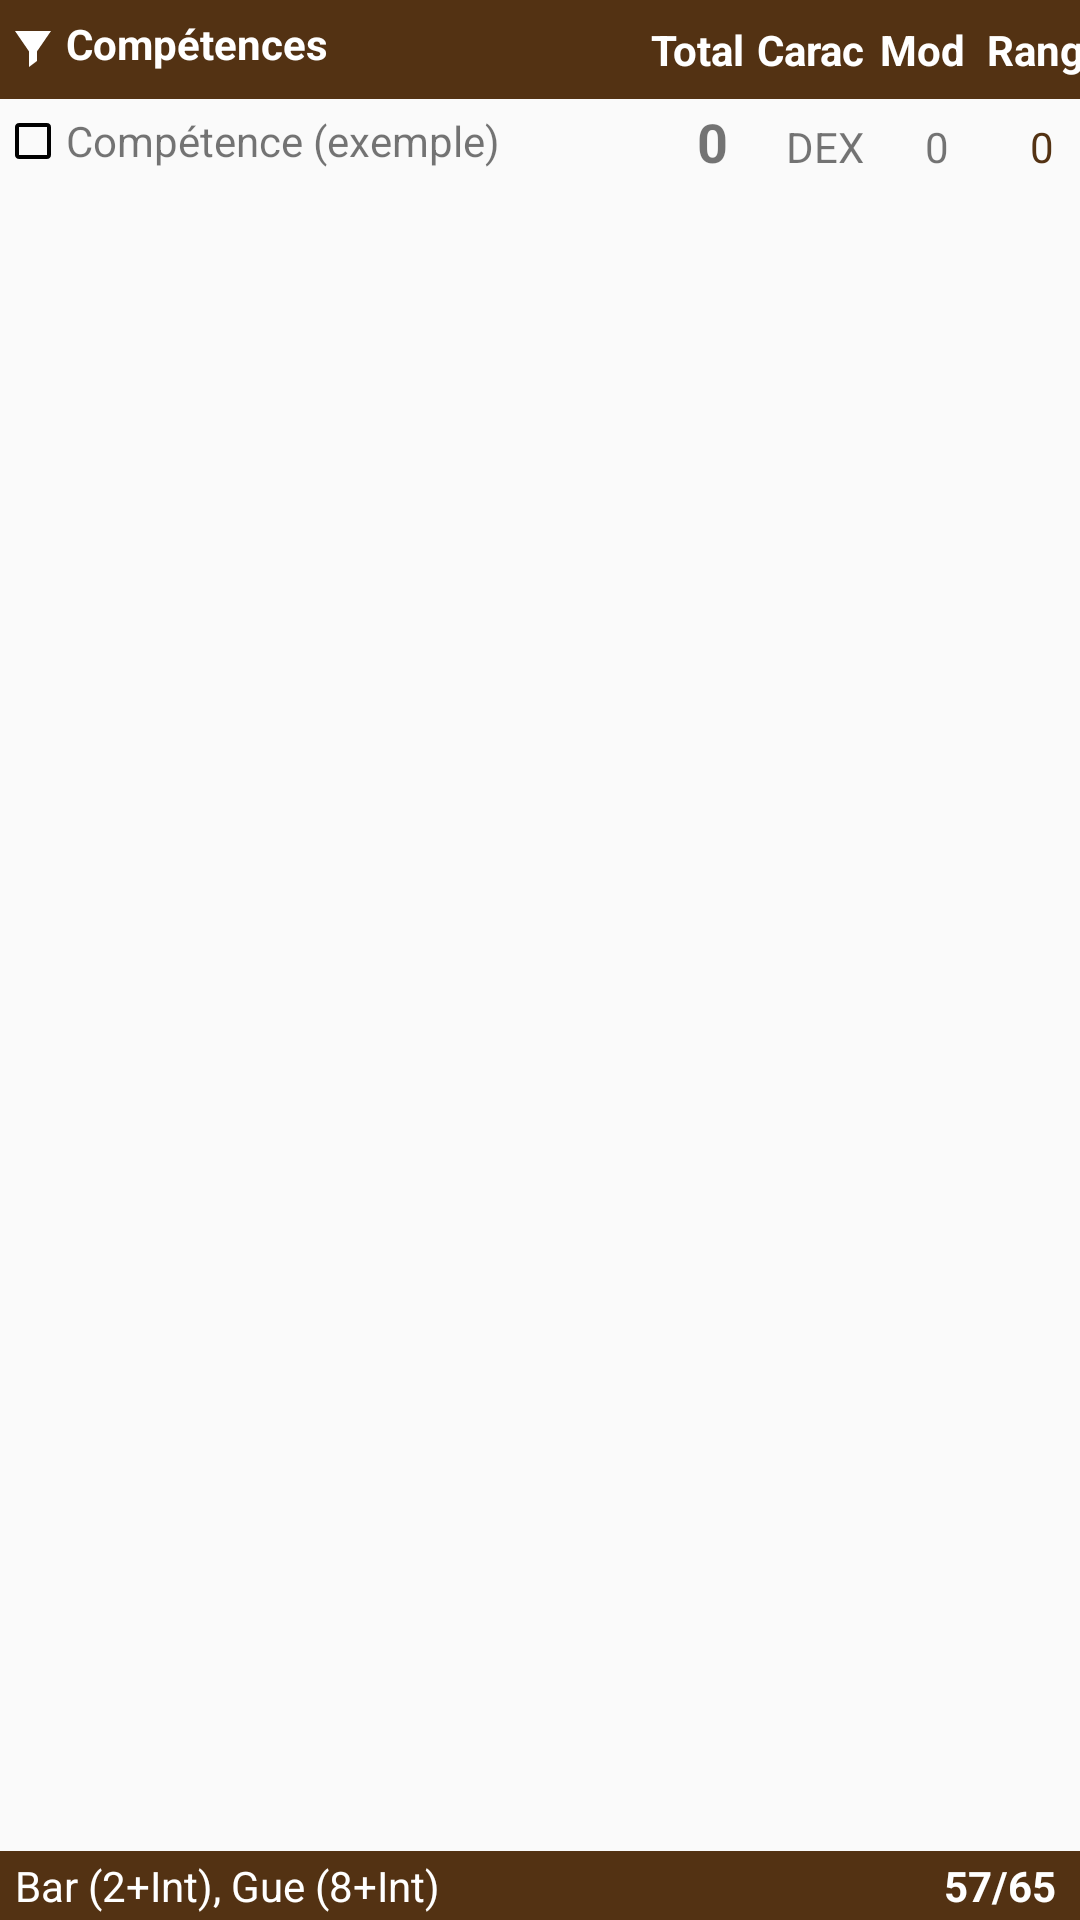

Where icons sit on this 1080px x 1920px app screen, as BBox(x1, y1, x2, y2):
filter: BBox(15, 31, 51, 67)
unchecked: BBox(15, 123, 51, 159)
